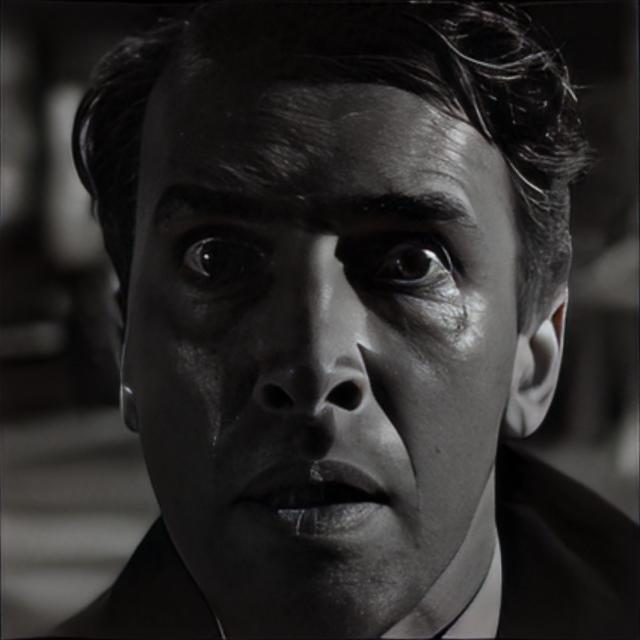Fear: (129, 41, 514, 640)
